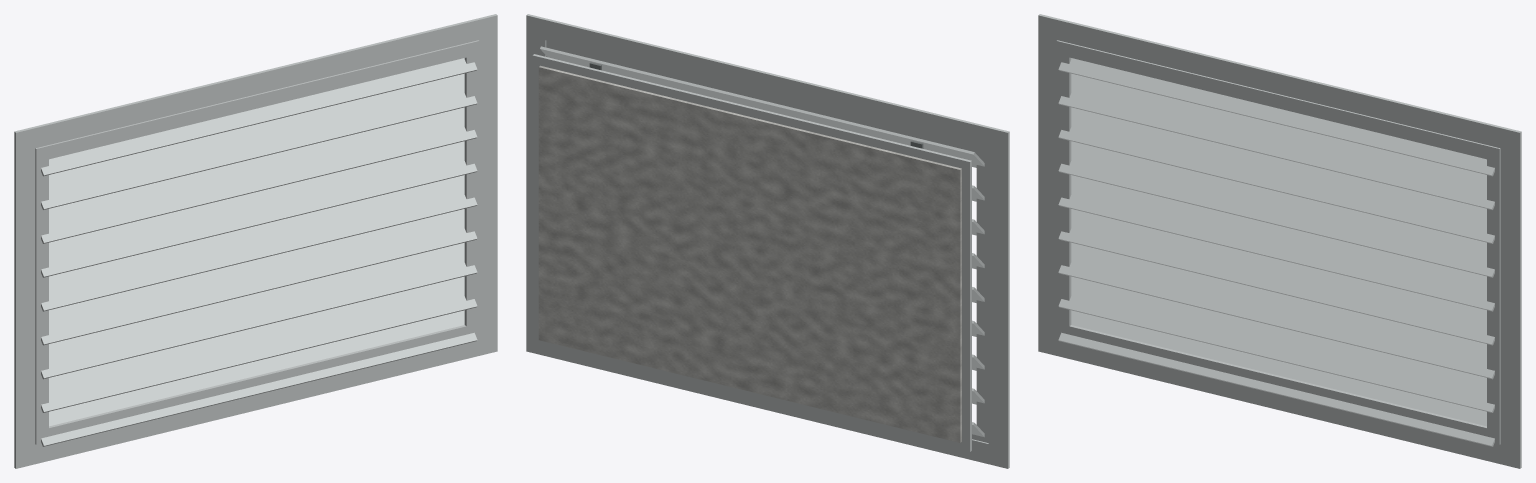
File: ega6-realistic.glb
3 renders of one model, left to right at view 1: azimuth 30°, elevation 25°; view 2: azimuth 150°, elevation 25°; view 3: azimuth 330°, elevation 25°, orthographic.
Visible parts, largest first — view 1: Aletta.002, Aletta.006, Aletta.007, Aletta.003, Aletta.005, Aletta.001, Aletta.004, Aletta, Cornice_fissa, Cornice_fissa.001, Cornice_fissa.002, Aletta.008 (+5 smaller); view 2: Filtro, Cornice_fissa, Cornice_fissa.002, Filtro_telaio, Aletta.008, Cornice_fissa.001, Cornice_mobile, Cornice_mobile.002, Filtro_telaio.001, Filtro_telaio.002, Cornice_fissa.003, Filtro_telaio.003; view 3: Aletta.002, Aletta.006, Aletta.007, Aletta.003, Aletta.005, Aletta.001, Aletta.004, Aletta, Cornice_fissa, Cornice_fissa.001, Cornice_fissa.003, Aletta.008 (+5 smaller).
Part boxes in pixels (x1,y1,x2,y2): Aletta.002: [41, 242, 477, 379]; Aletta.006: [41, 107, 477, 243]; Aletta.007: [41, 73, 477, 209]; Aletta.003: [41, 209, 477, 345]; Aletta.005: [41, 141, 477, 277]; Aletta.001: [41, 276, 477, 412]; Aletta.004: [41, 175, 477, 311]; Aletta: [41, 310, 477, 446]; Cornice_fissa: [14, 14, 497, 148]; Cornice_fissa.001: [16, 336, 497, 468]; Cornice_fissa.002: [14, 132, 35, 468]; Aletta.008: [41, 58, 477, 176]; Filtro: [538, 65, 961, 442]; Cornice_fissa: [526, 14, 1009, 148]; Cornice_fissa.002: [988, 132, 1009, 468]; Filtro_telaio: [532, 54, 971, 168]; Aletta.008: [540, 46, 984, 167]; Cornice_fissa.001: [526, 345, 1007, 468]; Cornice_mobile: [547, 40, 988, 156]; Cornice_mobile.002: [976, 149, 988, 441]; Filtro_telaio.001: [533, 340, 969, 451]; Filtro_telaio.002: [962, 161, 971, 451]; Cornice_fissa.003: [526, 16, 546, 350]; Filtro_telaio.003: [532, 56, 540, 344]; Aletta.002: [1058, 242, 1494, 379]; Aletta.006: [1058, 107, 1494, 243]; Aletta.007: [1058, 73, 1494, 209]; Aletta.003: [1058, 209, 1494, 345]; Aletta.005: [1058, 141, 1494, 277]; Aletta.001: [1058, 276, 1494, 412]; Aletta.004: [1058, 175, 1494, 311]; Aletta: [1058, 310, 1494, 446]; Cornice_fissa: [1038, 14, 1521, 148]; Cornice_fissa.001: [1038, 336, 1519, 468]; Cornice_fissa.003: [1500, 132, 1521, 468]; Aletta.008: [1058, 58, 1494, 176].
Size of the model in its own units: 0.6 by 0.4 by 0.0503.
3 materials, 1 textured.
